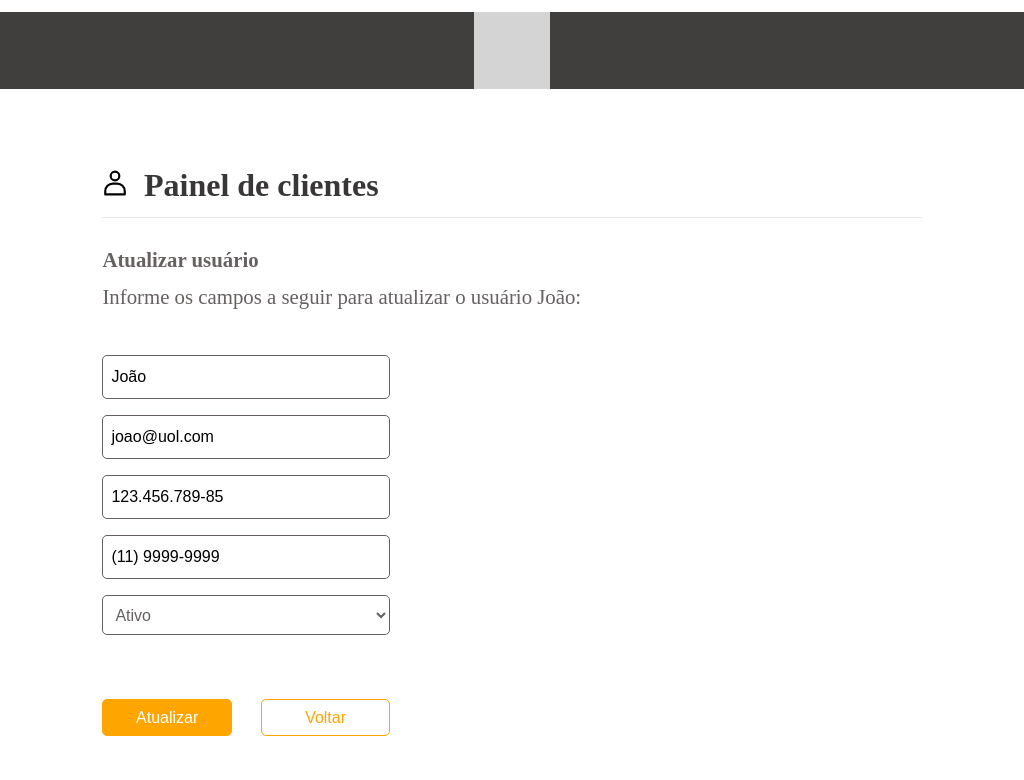
Test case: Testando a página de editar usuário › Testa se o botão de atualizar usuário funciona corretamente
Clear the field with test id "name" at (246, 377), box left=102, top=355, right=390, bottom=399
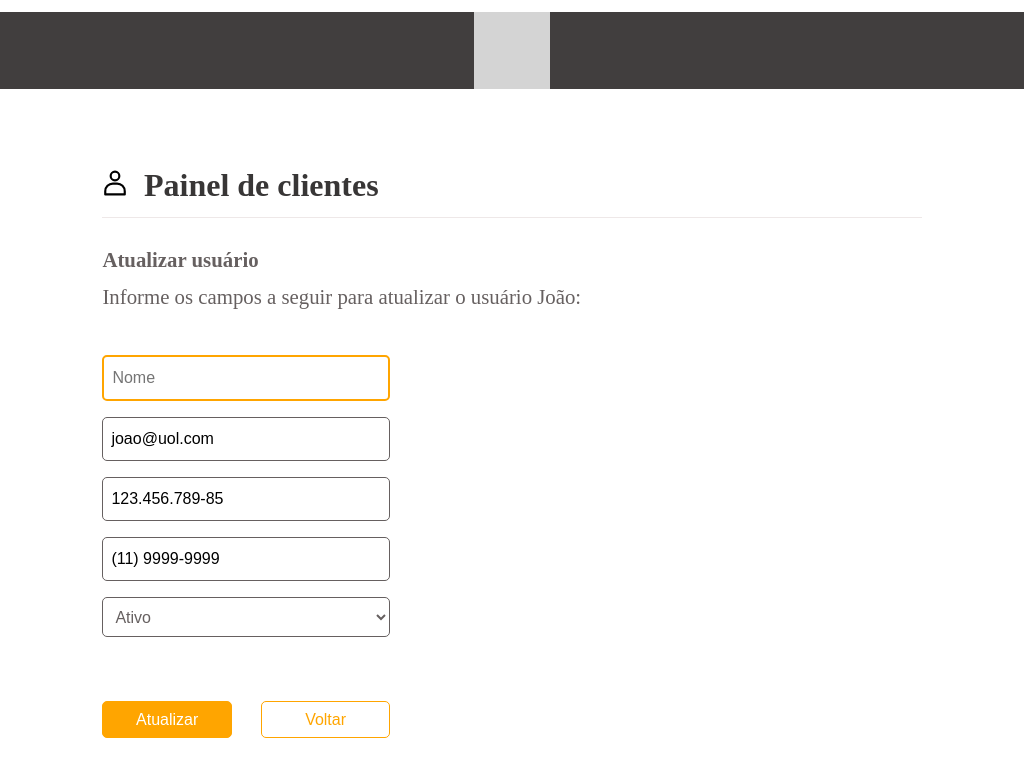
Type "João Silva" into the field with test id "name" at (246, 378), box left=102, top=355, right=390, bottom=401
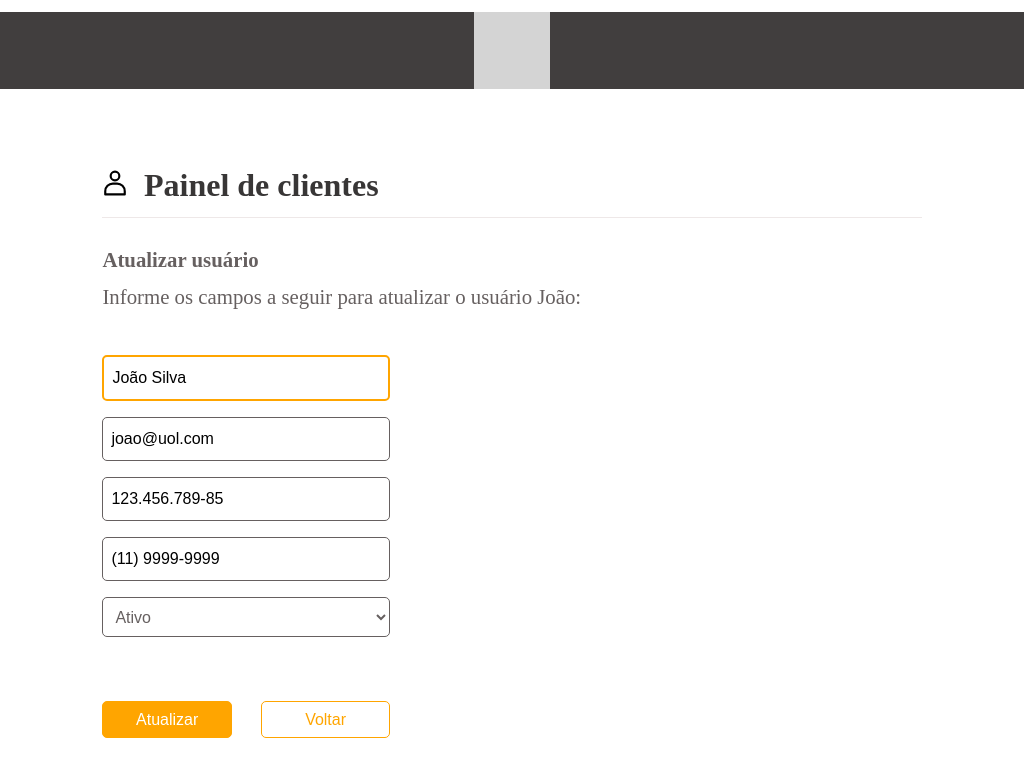
Click the button "Atualizar" at (167, 720), box left=102, top=701, right=232, bottom=738
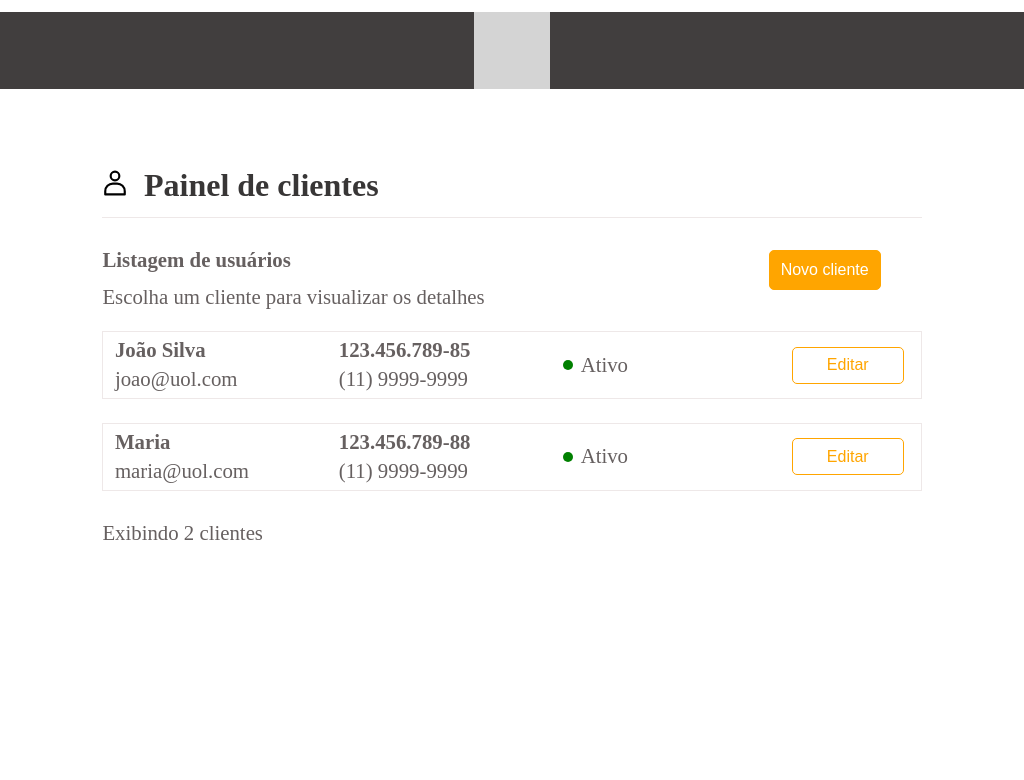
Now the heading "Listagem de usuários" is shown, box left=102, top=248, right=291, bottom=271
Now the text "João Silva" is shown, box left=115, top=338, right=206, bottom=361
